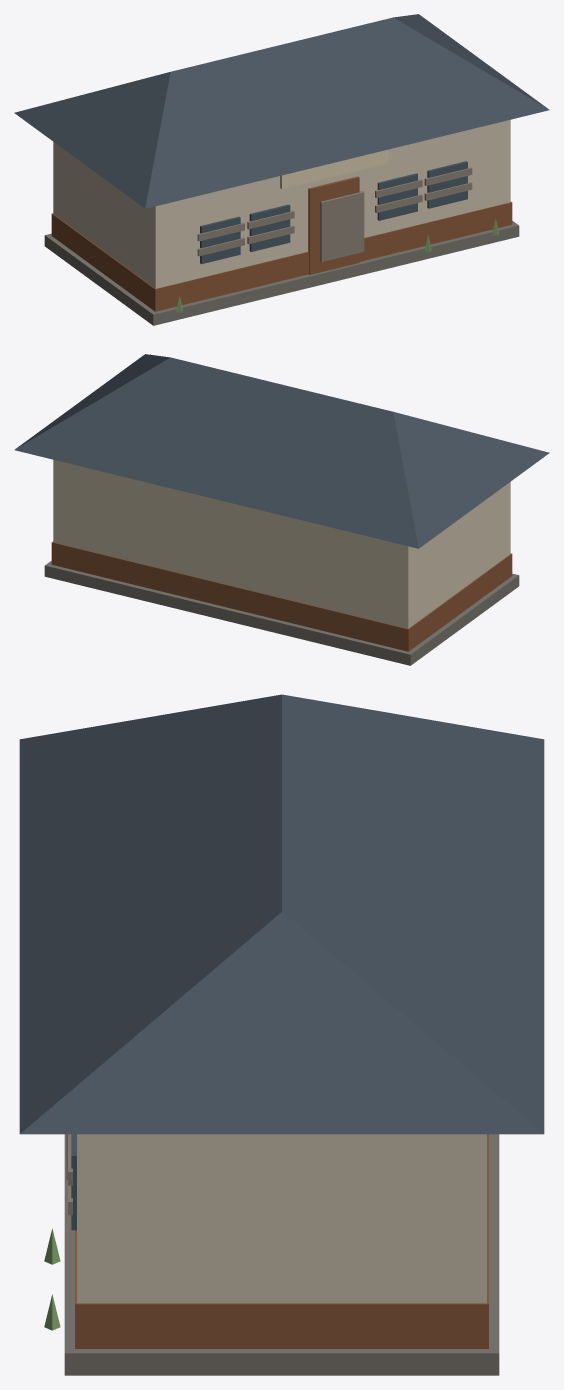
File: station_waiting_room_s0.fbx
3 renders of one model, top to bottom at view 1: azimuth 30°, elevation 25°; view 2: azimuth 150°, elevation 25°; view 3: azimuth 270°, elevation 25°, orthographic. The views are drawn at different scales.
Visible parts, largest first — view 1: station_waiting_room_s0; view 2: station_waiting_room_s0; view 3: station_waiting_room_s0.
Part boxes in pixels (bbox=[...]): station_waiting_room_s0: bbox=[14, 14, 549, 325]; station_waiting_room_s0: bbox=[14, 354, 549, 665]; station_waiting_room_s0: bbox=[19, 694, 544, 1375].
Bounding box in the file's own units: 11.4 × 5.3 × 6.4.
1 material, 1 textured.
